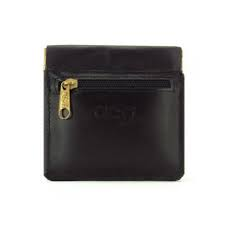monedero: (43, 44, 186, 181)
